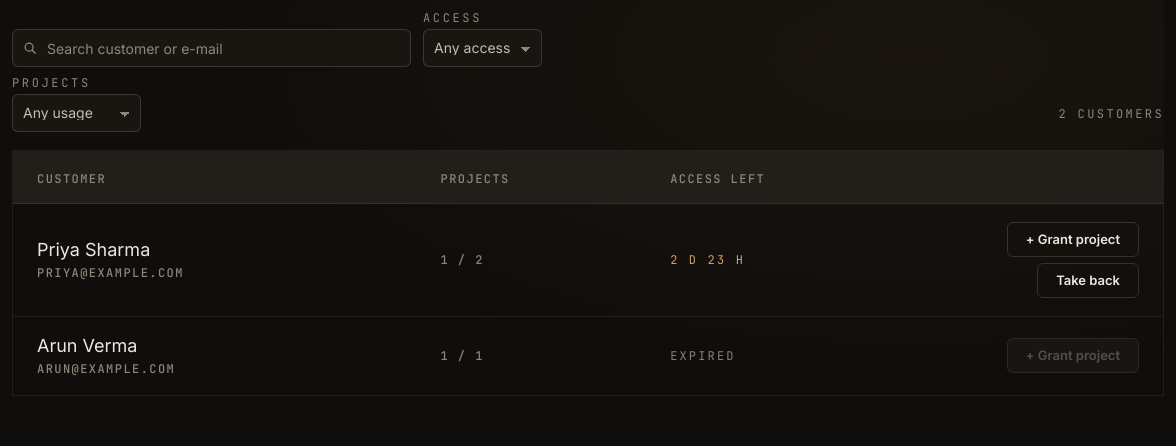
it: RetailerCustomers — accessible table semantics › keeps the customer list on screen when one grant is refused
Click the button "+ Grant project" in the row of "Priya Sharma".
click(1073, 240)  # box 1007,222 -> 1139,257
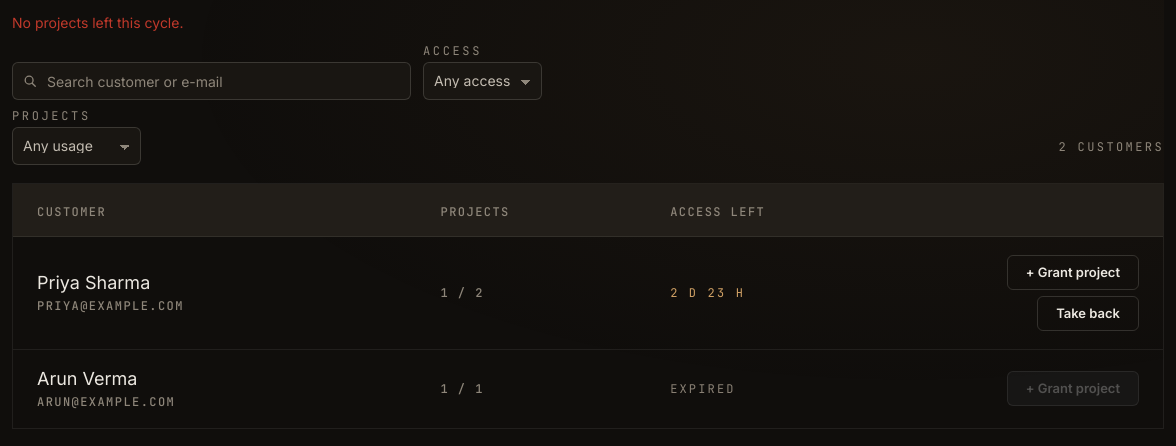
Expected: the table named "Customers" is shown, 12,183 -> 1164,429
Now the message reads "No projects left this cycle.", box 12,14 -> 184,31
